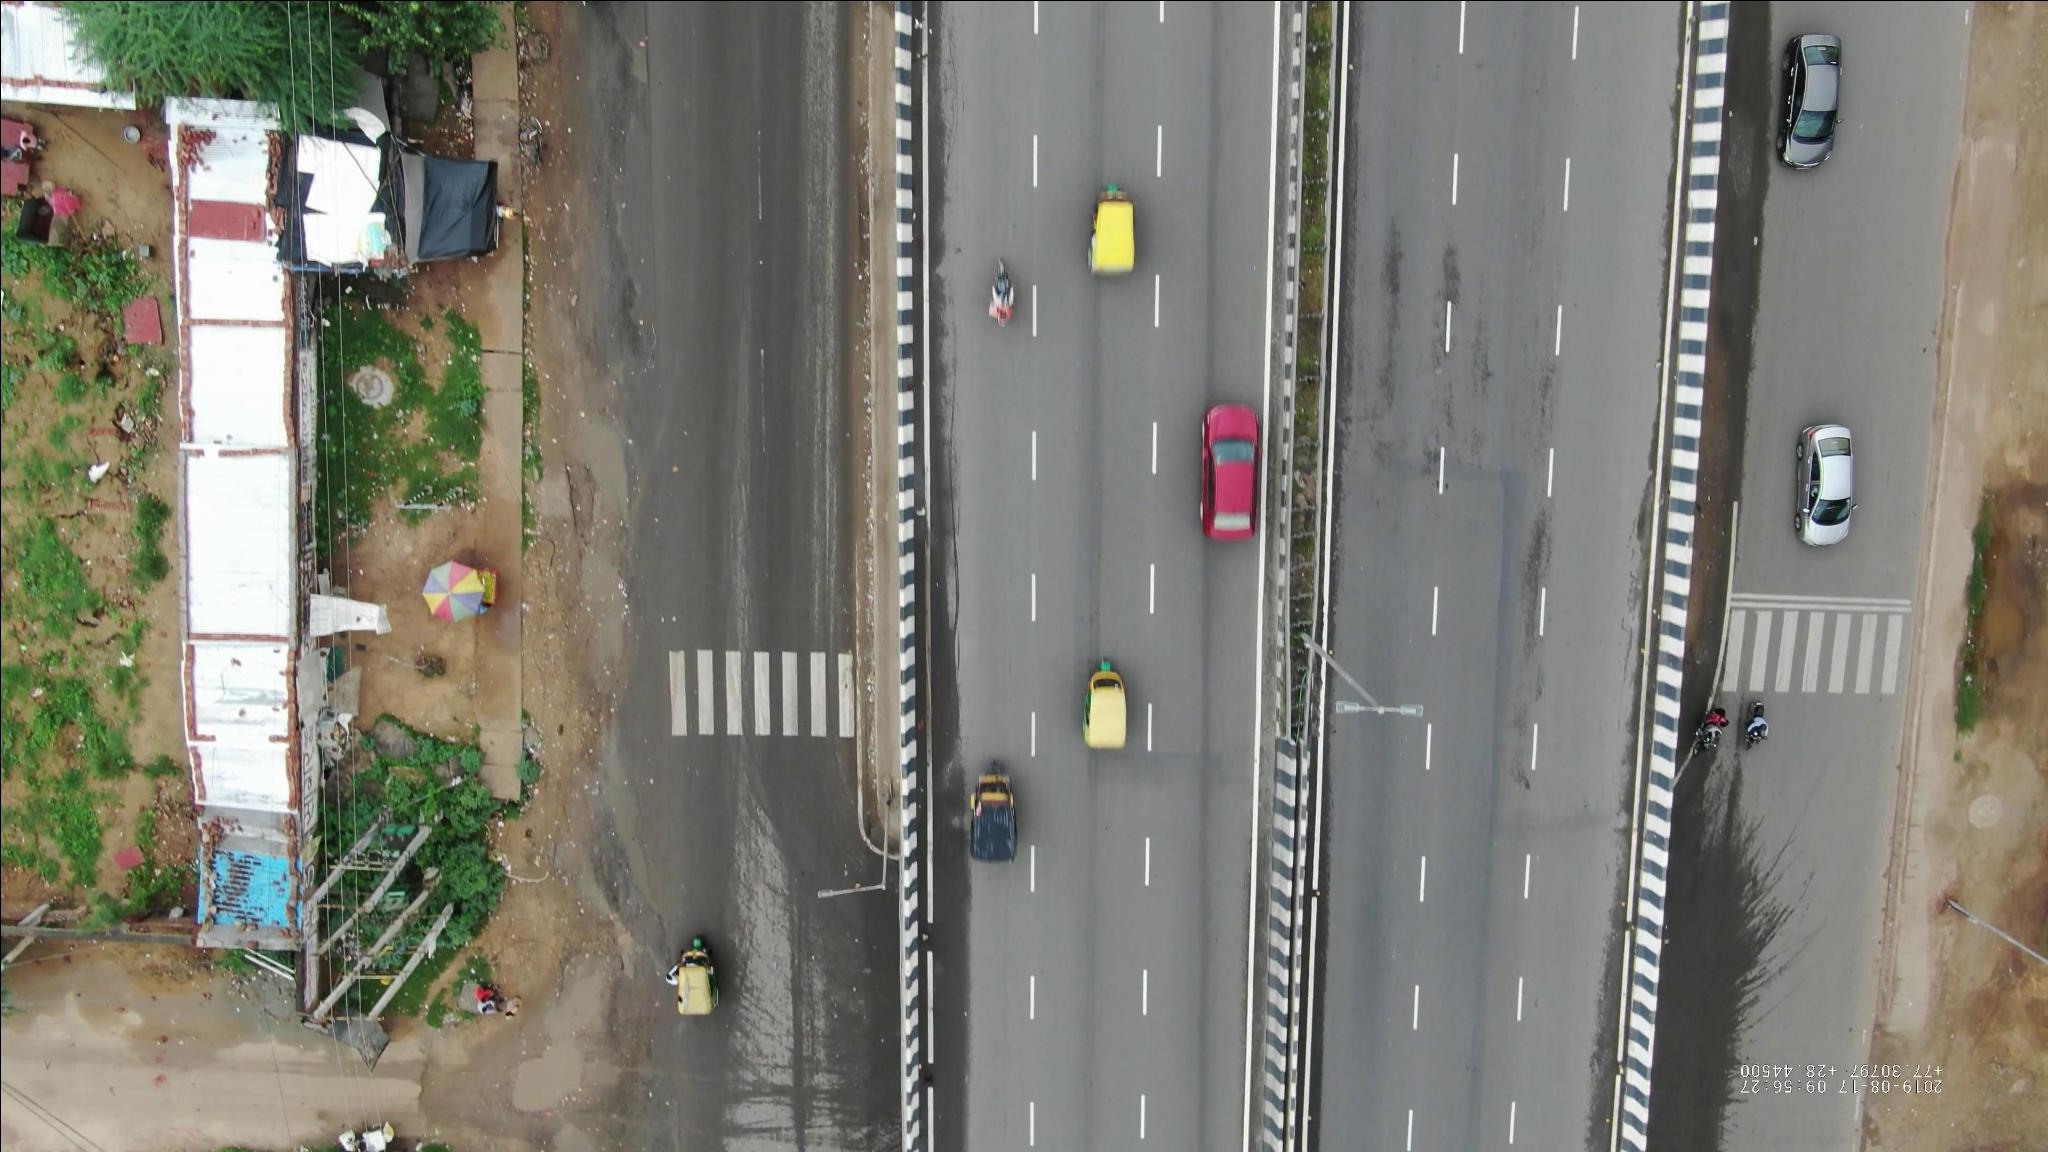Muddy_road: (513, 499, 610, 758)
